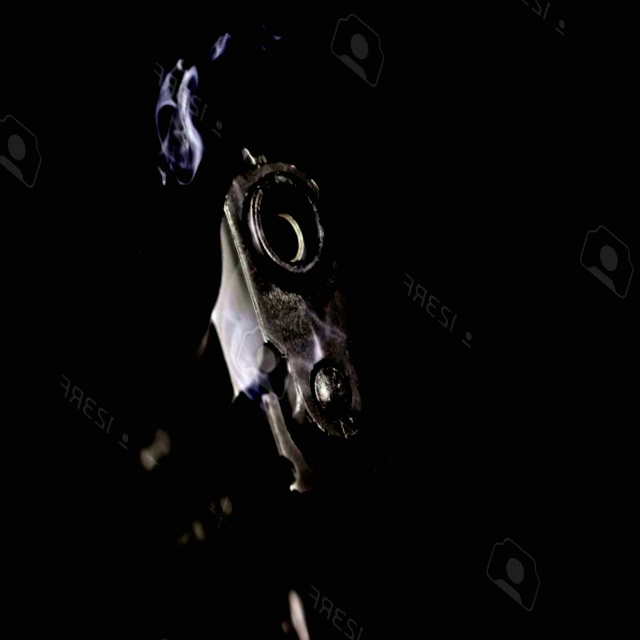gun: (61, 98, 478, 640)
